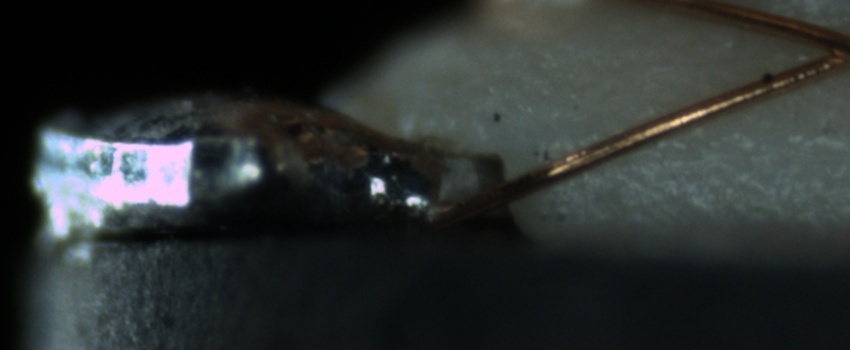CL: (798, 20, 850, 78)
DL: (623, 125, 850, 179)
